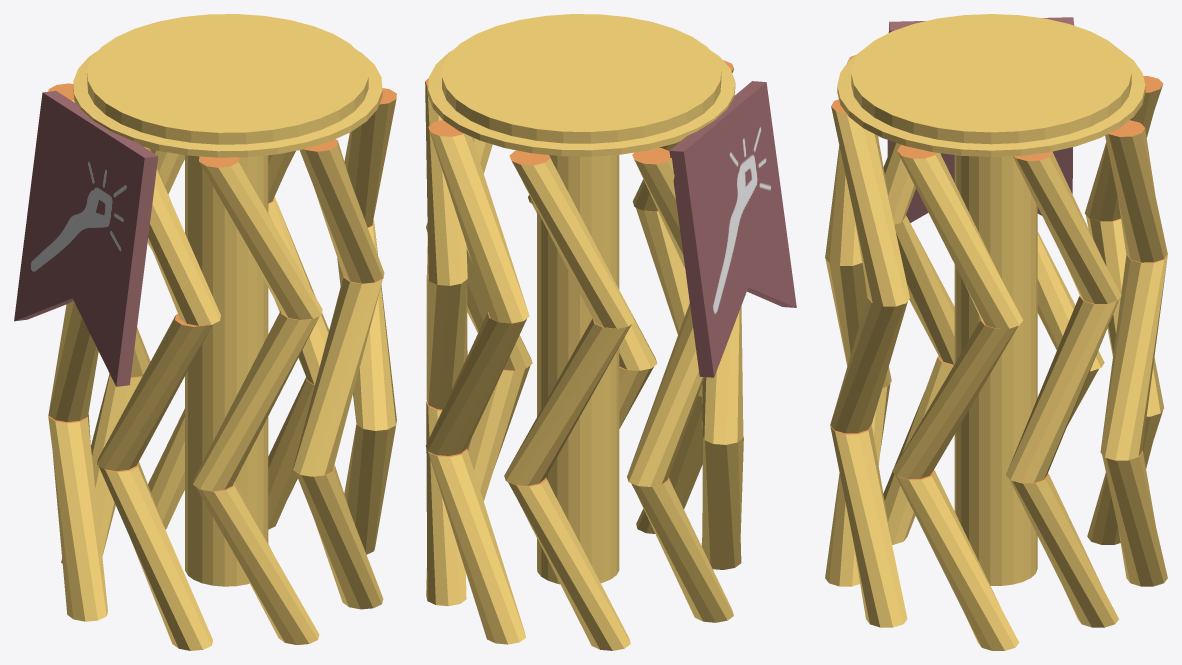
Rendered from Magic_tower.fbx.
The picture shows the model from 3 angles, left to right: view 1: azimuth 30°, elevation 25°; view 2: azimuth 150°, elevation 25°; view 3: azimuth 270°, elevation 25°; orthographic projection.
Parts seen in each view (by area): view 1: Circle.004, Cube.124, Cylinder.131, Cylinder.142, Cylinder.134, Cylinder.146, Cylinder.139, Cylinder.148, Cylinder.140, Cylinder.133, Cylinder.126, Cylinder.145 (+12 smaller); view 2: Circle.004, Cube.124, Cylinder.131, Cylinder.130, Cylinder.141, Cylinder.124, Cylinder.147, Cylinder.132, Cylinder.137, Cylinder.138, Cylinder.142, Cylinder.146 (+12 smaller); view 3: Circle.004, Cylinder.131, Cylinder.138, Cylinder.145, Cylinder.135, Cylinder.126, Cylinder.128, Cylinder.143, Cylinder.136, Cylinder.127, Cylinder.144, Cylinder.130 (+13 smaller).
Boxes of the visible parts, <box> form: Circle.004: <box>73,14,382,157</box>; Cube.124: <box>14,90,158,386</box>; Cylinder.131: <box>185,155,268,586</box>; Cylinder.142: <box>48,414,107,621</box>; Cylinder.134: <box>293,276,382,476</box>; Cylinder.146: <box>98,462,212,650</box>; Cylinder.139: <box>193,311,319,491</box>; Cylinder.148: <box>199,156,322,319</box>; Cylinder.140: <box>196,481,319,644</box>; Cylinder.133: <box>97,314,212,470</box>; Cylinder.126: <box>299,139,384,283</box>; Cylinder.145: <box>295,465,383,609</box>; Circle.004: <box>428,14,735,156</box>; Cube.124: <box>669,81,796,377</box>; Cylinder.131: <box>537,154,619,584</box>; Cylinder.130: <box>428,120,529,323</box>; Cylinder.141: <box>428,448,525,644</box>; Cylinder.124: <box>509,150,634,328</box>; Cylinder.147: <box>508,477,630,650</box>; Cylinder.132: <box>504,318,631,485</box>; Cylinder.137: <box>627,303,704,486</box>; Cylinder.138: <box>426,312,526,455</box>; Cylinder.142: <box>631,477,733,622</box>; Cylinder.146: <box>701,436,743,569</box>; Circle.004: <box>837,14,1145,156</box>; Cylinder.131: <box>954,155,1037,585</box>; Cylinder.138: <box>1100,254,1167,460</box>; Cylinder.145: <box>830,425,907,627</box>; Cylinder.135: <box>1006,295,1119,483</box>; Cylinder.126: <box>831,99,909,306</box>; Cylinder.128: <box>897,145,1022,328</box>; Cylinder.143: <box>895,470,1019,650</box>; Cylinder.136: <box>892,319,1017,479</box>; Cylinder.127: <box>1013,151,1121,303</box>; Cylinder.144: <box>1010,473,1118,627</box>; Cylinder.130: <box>1105,120,1167,262</box>.
Bounding box in the file's own units: 257 × 389 × 239.
